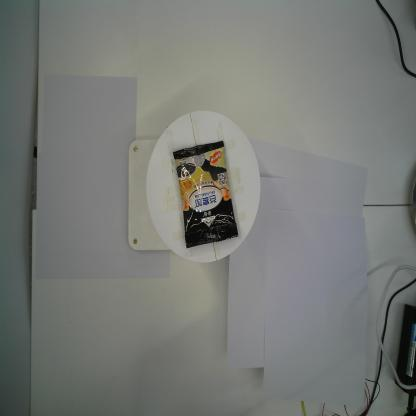Instant Drink: (173, 140, 238, 249)
